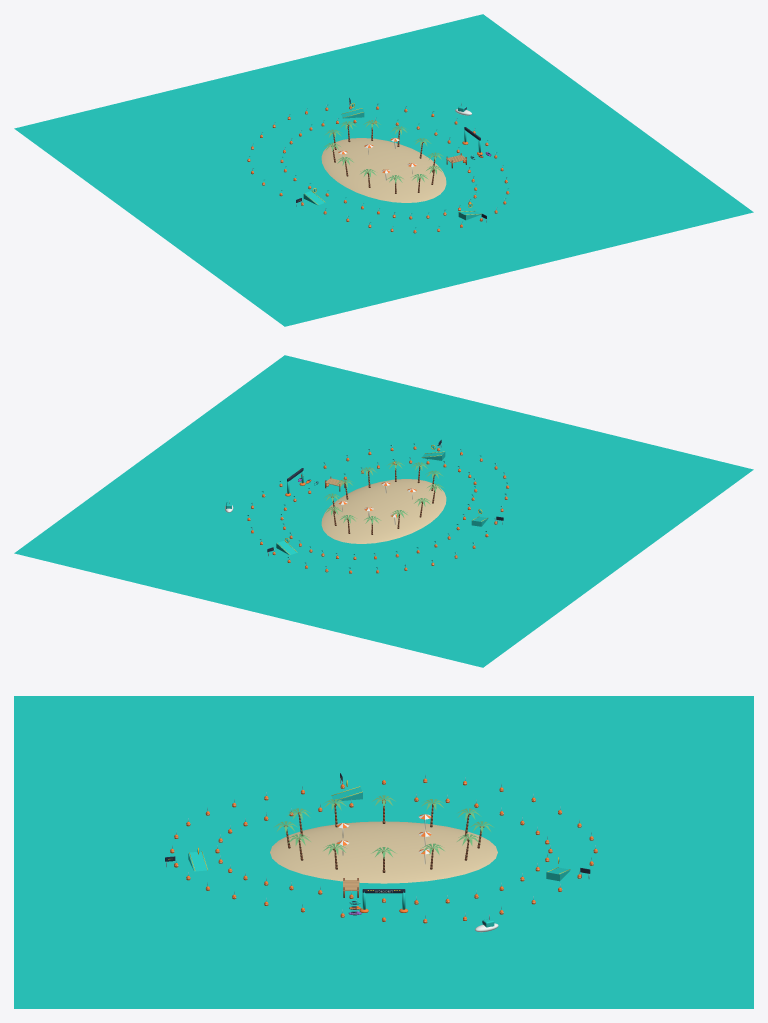
Rendered from Track_Sunbeam_Lagoon.glb.
3 renders of one model, top to bottom at view 1: azimuth 30°, elevation 25°; view 2: azimuth 150°, elevation 25°; view 3: azimuth 270°, elevation 25°, orthographic. The views are drawn at different scales.
Visible parts, largest first — view 1: Water_preview_surface, Central_island; view 2: Water_preview_surface, Central_island; view 3: Water_preview_surface, Central_island.
Part boxes in pixels (x1,y1,x2,y2): Water_preview_surface: (14, 14, 753, 326); Central_island: (321, 138, 446, 202); Water_preview_surface: (14, 355, 753, 667); Central_island: (321, 479, 446, 543); Water_preview_surface: (14, 696, 753, 1008); Central_island: (270, 821, 497, 883).
Bounding box in the file's own units: 180 × 12.24 × 180.
